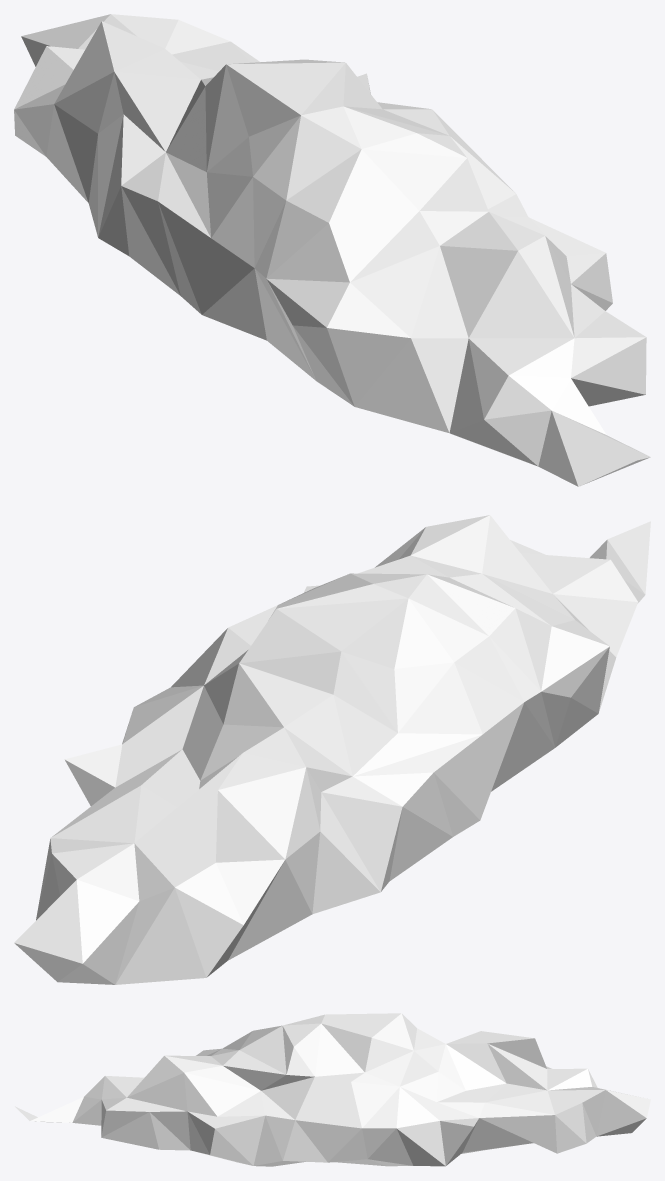
The model's file is RG_Cloud-02.fbx.
3 renders of one model, top to bottom at view 1: azimuth 30°, elevation 25°; view 2: azimuth 150°, elevation 25°; view 3: azimuth 270°, elevation 25°, orthographic. The views are drawn at different scales.
Visible parts, largest first — view 1: RG_Cloud-02; view 2: RG_Cloud-02; view 3: RG_Cloud-02.
Boxes of the visible parts, <box> form: RG_Cloud-02: <box>14,14,650,486</box>; RG_Cloud-02: <box>14,515,650,984</box>; RG_Cloud-02: <box>15,1013,650,1166</box>.
Bounding box in the file's own units: 143 × 104 × 498.
